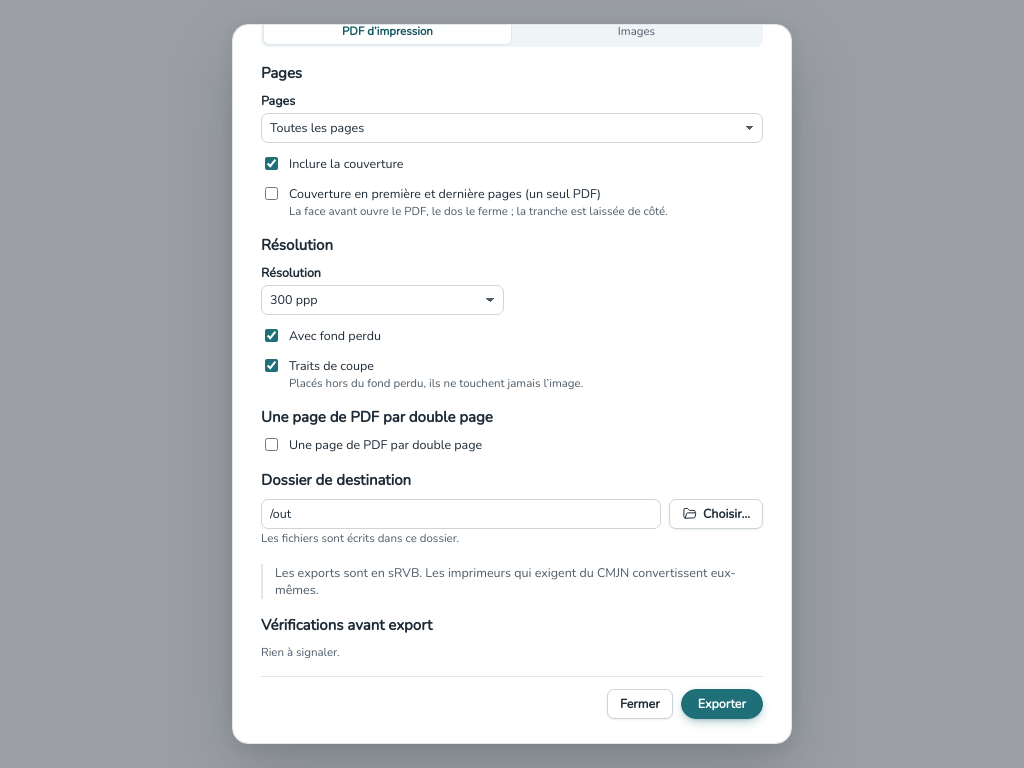
ExportDialog start › saves the album before it asks main to export
The width and height of the screenshot is (1024, 768).
(page scrolled)
Check: the text "Rien à signaler." is shown, box [261,644,340,660]
Click the button "Exporter" at (722, 704), box [681,689,763,719]
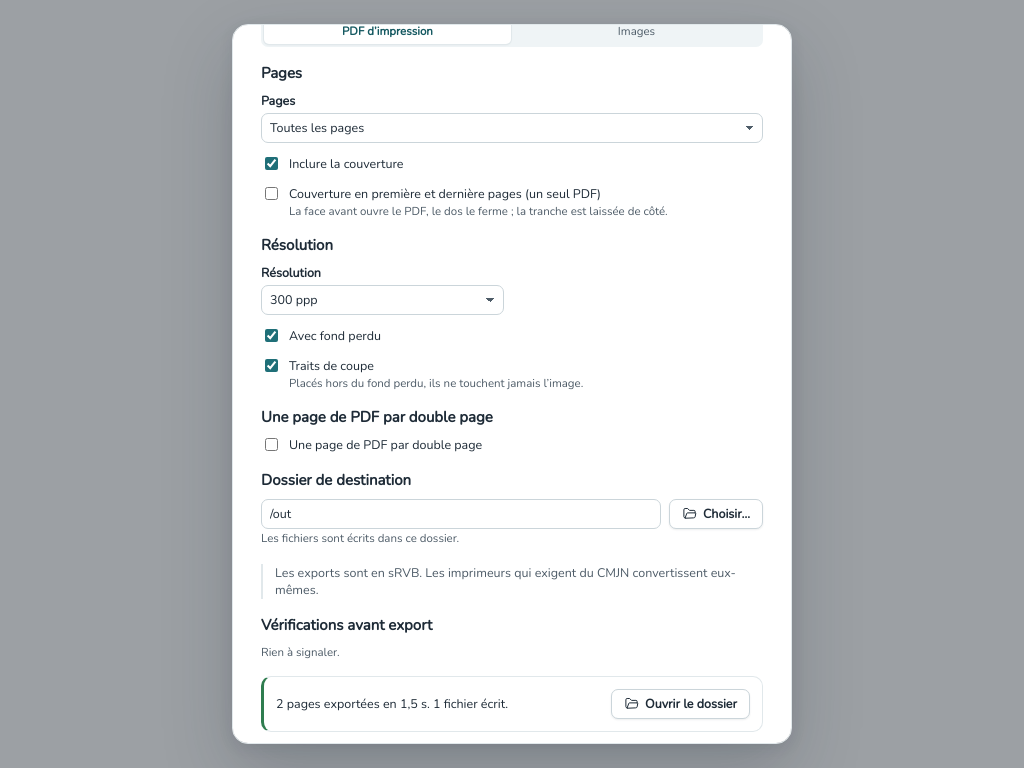
Check: the button "Ouvrir le dossier" is shown, box [611,689,750,719]
